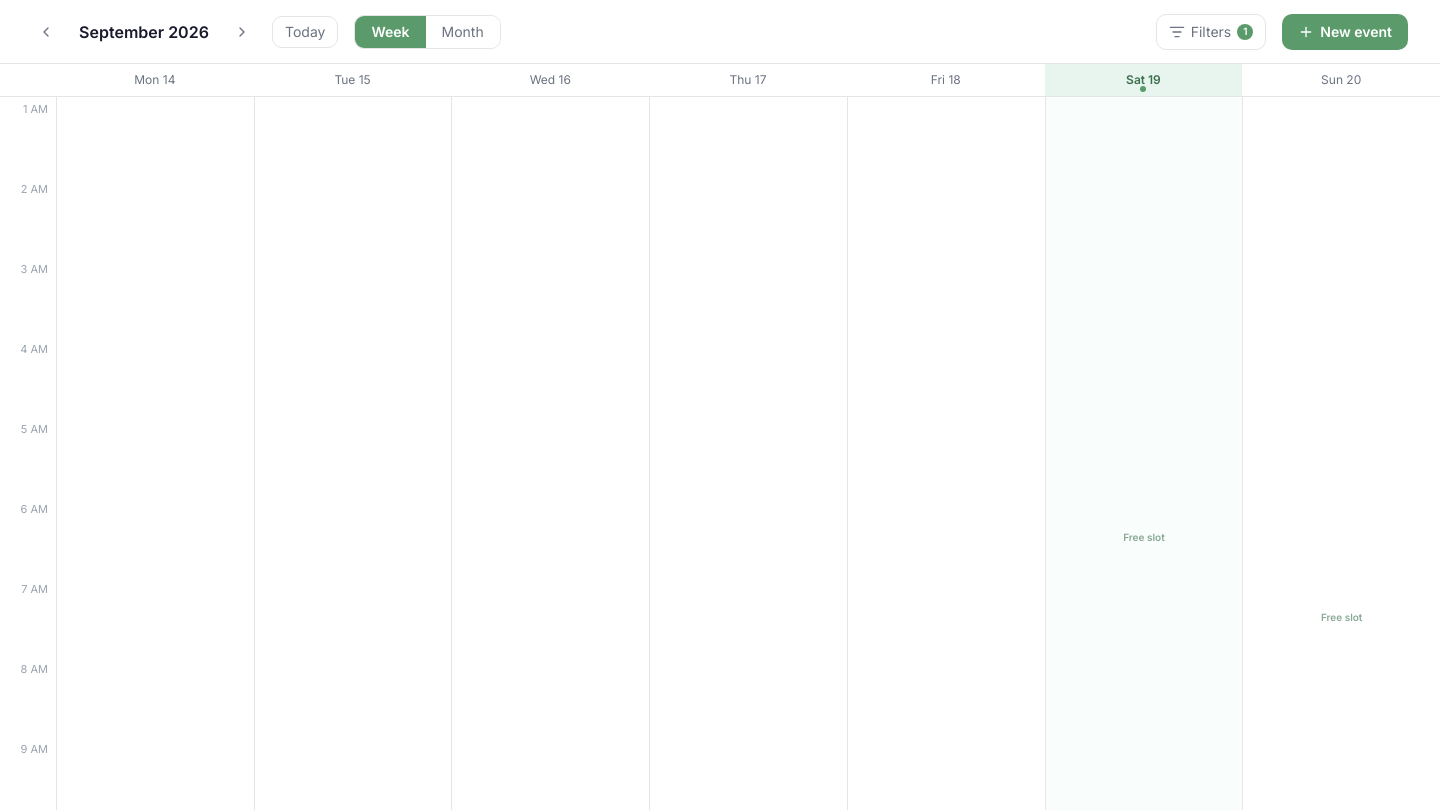
Test: CalendarPage › reflects a hidden lobby as unchecked and re-shows its events once re-checked
The image size is (1452, 810).
Check: the text "Morning Coffee" is not shown
Click the button "Filters 1" at [1211, 32], box [1156,14,1266,50]
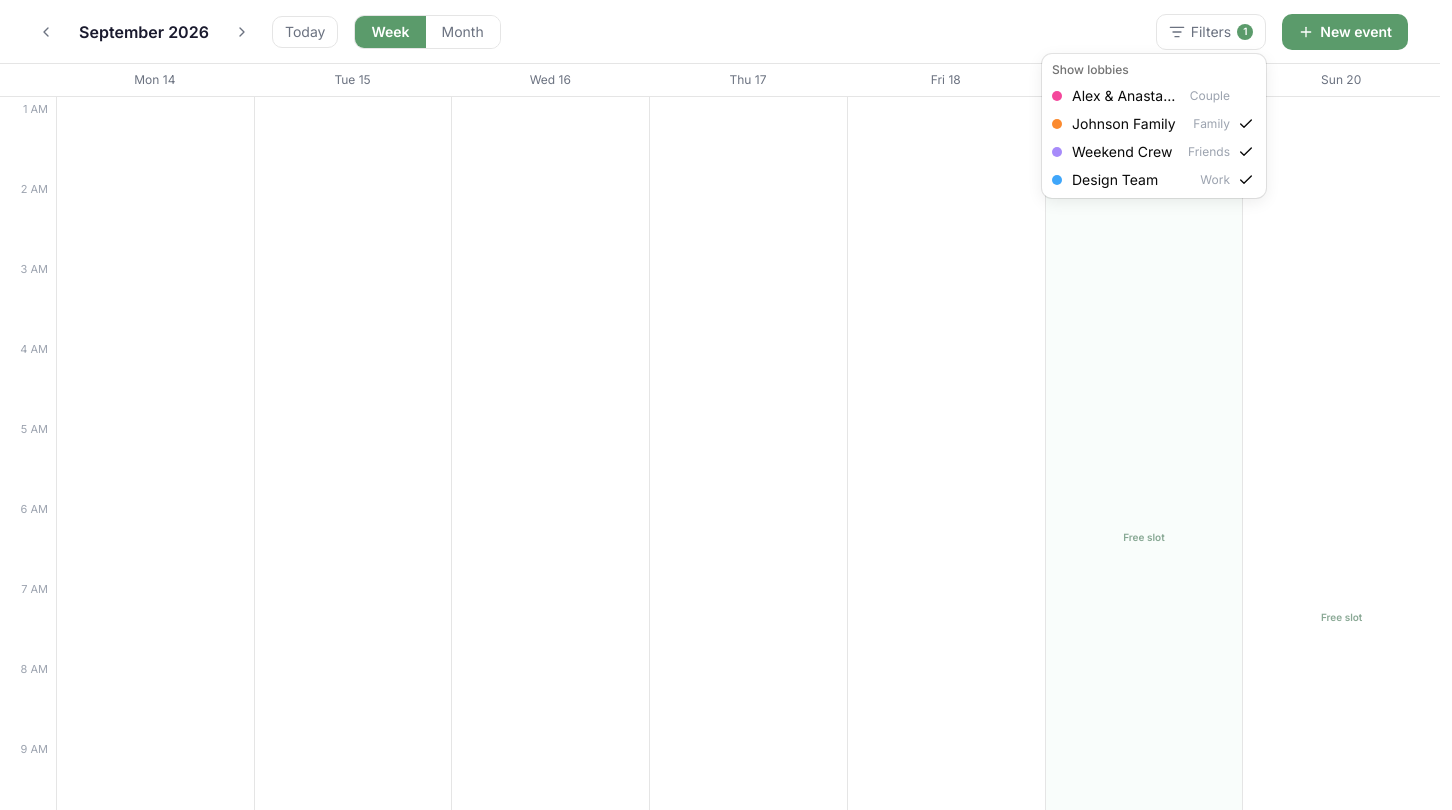
Click the menu item "Alex & Anastasiia Couple" at [1141, 96], box [1052,87,1230,104]
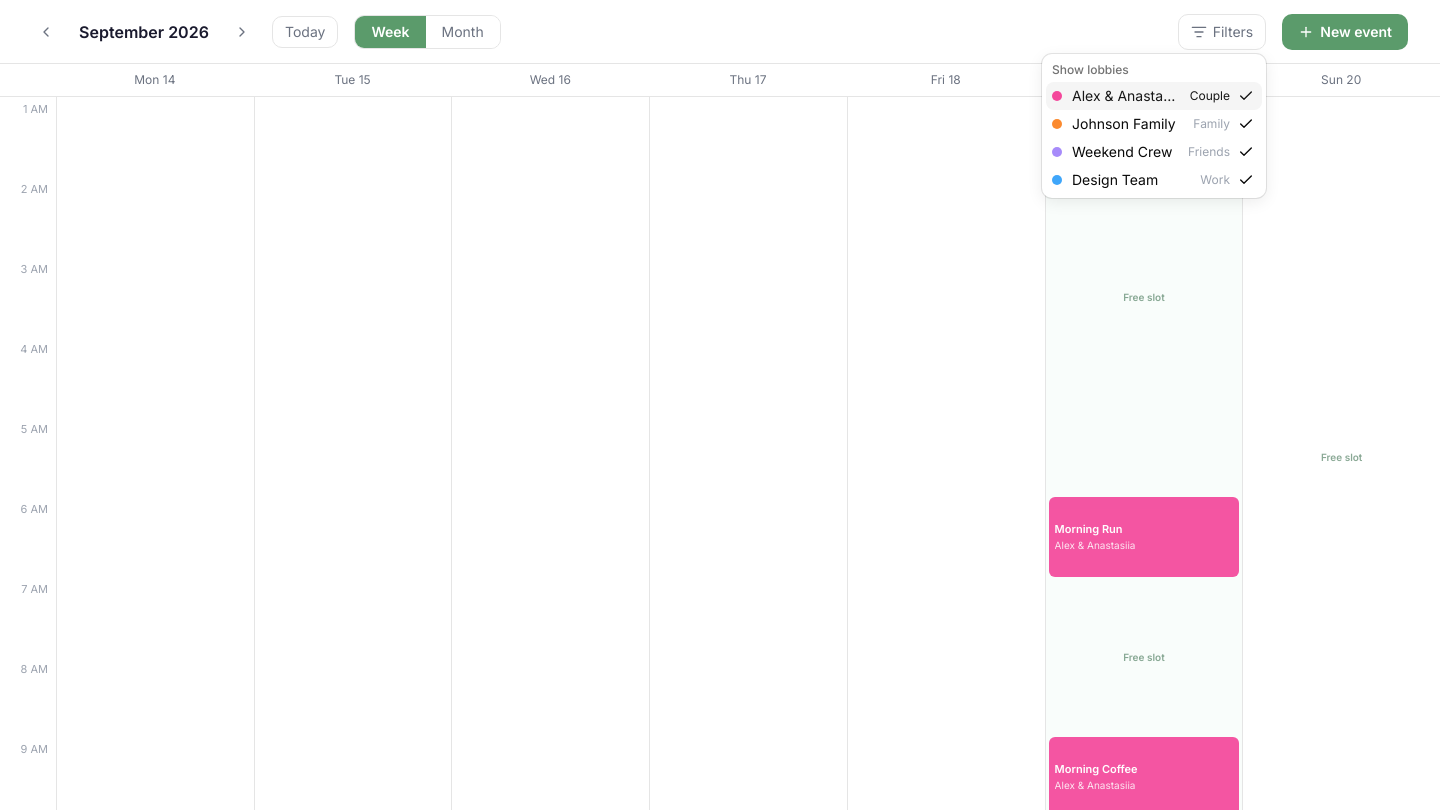
Check: the text "Morning Coffee" is shown, box [1055,763,1138,777]
